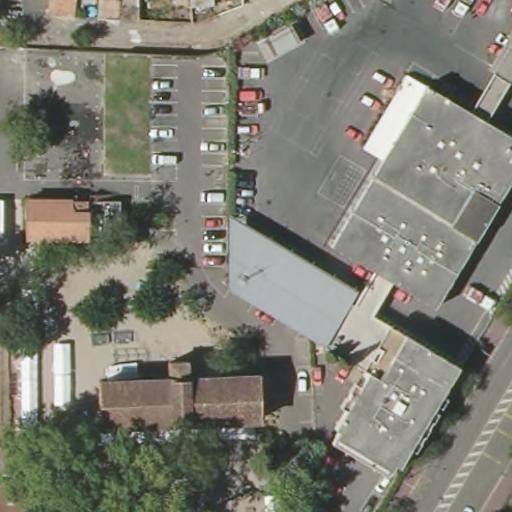pool: (83, 3, 99, 20)
